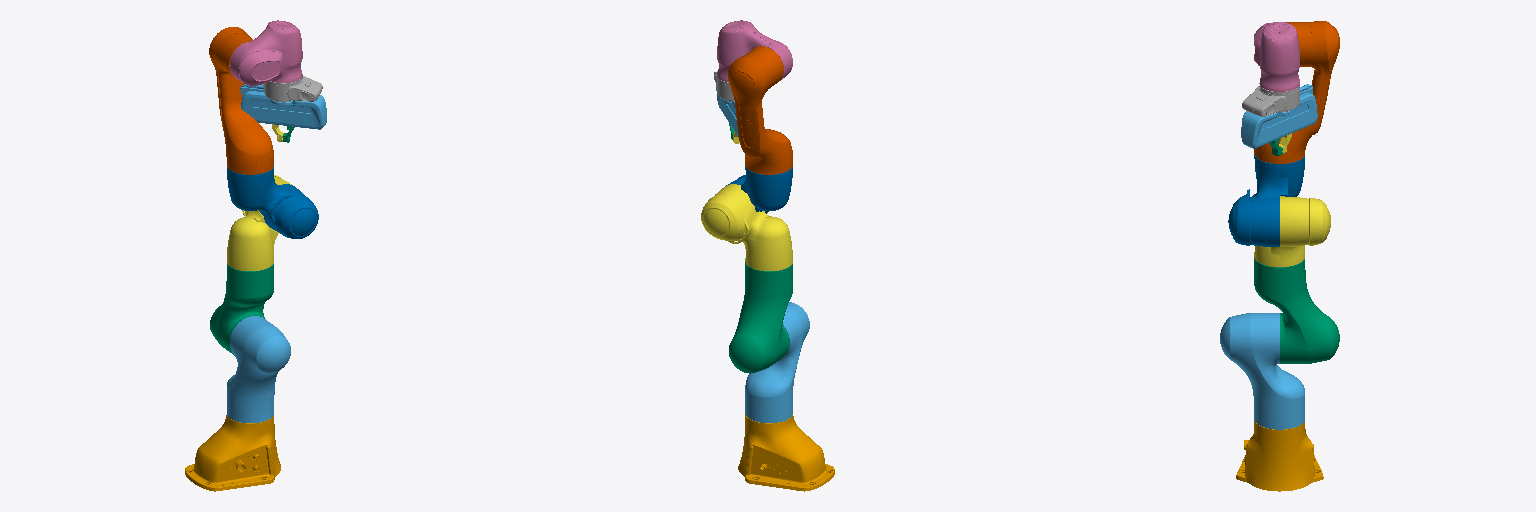
robot.urdf — panda_col:
<?xml version="1.0" ?>
<!-- =================================================================================== -->
<!-- |    This document was autogenerated by xacro from /opt/ros/kinetic/share/moveit_resources/panda_description/urdf/panda.urdf | -->
<!-- |    EDITING THIS FILE BY HAND IS NOT RECOMMENDED                                 | -->
<!-- =================================================================================== -->
<robot name="panda_col" xmlns:xacro="http://www.ros.org/wiki/xacro">
    <link name="panda_link0">
        <visual>
            <geometry>
                <mesh filename="meshes/visual/link0.stl" />
            </geometry>
        </visual>
        <collision>
            <geometry>
                <mesh filename="meshes/collision/link0.obj" />
            </geometry>
        </collision>
    </link>
    <link name="panda_link1">
        <visual>
            <geometry>
                <mesh filename="meshes/visual/link1.stl" />
            </geometry>
        </visual>
        <collision>
            <geometry>
                <mesh filename="meshes/collision/link1.obj" />
            </geometry>
        </collision>
    </link>
    <joint name="panda_joint1" type="revolute">
        <safety_controller k_position="100.0" k_velocity="40.0" soft_lower_limit="-2.8973" soft_upper_limit="2.8973" />
        <origin rpy="0 0 0" xyz="0 0 0.333" />
        <parent link="panda_link0" />
        <child link="panda_link1" />
        <axis xyz="0 0 1" />
        <limit effort="87" lower="-2.9671" upper="2.9671" velocity="2.3925" />
    </joint>
    <link name="panda_link2">
        <visual>
            <geometry>
                <mesh filename="meshes/visual/link2.stl" />
            </geometry>
        </visual>
        <collision>
            <geometry>
                <mesh filename="meshes/collision/link2.obj" />
            </geometry>
        </collision>
    </link>
    <joint name="panda_joint2" type="revolute">
        <safety_controller k_position="100.0" k_velocity="40.0" soft_lower_limit="-1.7628" soft_upper_limit="1.7628" />
        <origin rpy="-1.57079632679 0 0" xyz="0 0 0" />
        <parent link="panda_link1" />
        <child link="panda_link2" />
        <axis xyz="0 0 1" />
        <limit effort="87" lower="-1.8326" upper="1.8326" velocity="2.3925" />
    </joint>
    <link name="panda_link3">
        <visual>
            <geometry>
                <mesh filename="meshes/visual/link3.stl" />
            </geometry>
        </visual>
        <collision>
            <geometry>
                <mesh filename="meshes/collision/link3.obj" />
            </geometry>
        </collision>
    </link>
    <joint name="panda_joint3" type="revolute">
        <safety_controller k_position="100.0" k_velocity="40.0" soft_lower_limit="-2.8973" soft_upper_limit="2.8973" />
        <origin rpy="1.57079632679 0 0" xyz="0 -0.316 0" />
        <parent link="panda_link2" />
        <child link="panda_link3" />
        <axis xyz="0 0 1" />
        <limit effort="87" lower="-2.9671" upper="2.9671" velocity="2.3925" />
    </joint>
    <link name="panda_link4">
        <visual>
            <geometry>
                <mesh filename="meshes/visual/link4.stl" />
            </geometry>
        </visual>
        <collision>
            <geometry>
                <mesh filename="meshes/collision/link4.obj" />
            </geometry>
        </collision>
    </link>
    <joint name="panda_joint4" type="revolute">
        <safety_controller k_position="100.0" k_velocity="40.0" soft_lower_limit="-3.0718" soft_upper_limit="0.0175" />
        <origin rpy="1.57079632679 0 0" xyz="0.0825 0 0" />
        <parent link="panda_link3" />
        <child link="panda_link4" />
        <axis xyz="0 0 1" />
        <limit effort="87" lower="-3.1416" upper="0.0873" velocity="2.3925" />
    </joint>
    <link name="panda_link5">
        <visual>
            <geometry>
                <mesh filename="meshes/visual/link5.stl" />
            </geometry>
        </visual>
        <collision>
            <geometry>
                <mesh filename="meshes/collision/link5.obj" />
            </geometry>
        </collision>
    </link>
    <joint name="panda_joint5" type="revolute">
        <safety_controller k_position="100.0" k_velocity="40.0" soft_lower_limit="-2.8973" soft_upper_limit="2.8973" />
        <origin rpy="-1.57079632679 0 0" xyz="-0.0825 0.384 0" />
        <parent link="panda_link4" />
        <child link="panda_link5" />
        <axis xyz="0 0 1" />
        <limit effort="12" lower="-2.9671" upper="2.9671" velocity="2.8710" />
    </joint>
    <link name="panda_link6">
        <visual>
            <geometry>
                <mesh filename="meshes/visual/link6.stl" />
            </geometry>
        </visual>
        <collision>
            <geometry>
                <mesh filename="meshes/collision/link6.obj" />
            </geometry>
        </collision>
    </link>
    <joint name="panda_joint6" type="revolute">
        <safety_controller k_position="100.0" k_velocity="40.0" soft_lower_limit="-0.0175" soft_upper_limit="3.7525" />
        <origin rpy="1.57079632679 0 0" xyz="0 0 0" />
        <parent link="panda_link5" />
        <child link="panda_link6" />
        <axis xyz="0 0 1" />
        <limit effort="12" lower="-0.0175" upper="3.8223" velocity="2.8710" />
    </joint>
    <link name="panda_link7">
        <visual>
            <geometry>
                <mesh filename="meshes/visual/link7.stl" />
            </geometry>
        </visual>
        <collision>
            <geometry>
                <mesh filename="meshes/collision/link7.obj" />
            </geometry>
        </collision>
    </link>
    <joint name="panda_joint7" type="revolute">
        <safety_controller k_position="100.0" k_velocity="40.0" soft_lower_limit="-2.8973" soft_upper_limit="2.8973" />
        <origin rpy="1.57079632679 0 0" xyz="0.088 0 0" />
        <parent link="panda_link6" />
        <child link="panda_link7" />
        <axis xyz="0 0 1" />
        <limit effort="12" lower="-2.9671" upper="2.9671" velocity="2.8710" />
    </joint>
    <link name="panda_link8" />
    <joint name="panda_joint8" type="fixed">
        <origin rpy="0 0 0" xyz="0 0 0.107" />
        <parent link="panda_link7" />
        <child link="panda_link8" />
        <axis xyz="0 0 0" />
    </joint>
    <joint name="panda_hand_joint" type="fixed">
        <parent link="panda_link8" />
        <child link="panda_hand" />
        <origin rpy="0 0  -0.785398163397" xyz="0 0 0" />
    </joint>
    <link name="panda_hand">
        <visual>
            <geometry>
                <mesh filename="meshes/visual/hand.stl" />
            </geometry>
        </visual>
        <collision>
            <geometry>
                <mesh filename="meshes/collision/hand.obj" />
            </geometry>
        </collision>
    </link>
    <link name="panda_leftfinger">
        <visual>
            <geometry>
                <mesh filename="meshes/visual/finger.stl" />
            </geometry>
        </visual>
        <collision>
            <geometry>
                <mesh filename="meshes/collision/finger.obj" />
            </geometry>
        </collision>
    </link>
    <link name="panda_rightfinger">
        <visual>
            <origin rpy="0 0 3.14159265359" xyz="0 0 0" />
            <geometry>
                <mesh filename="meshes/visual/finger.stl" />
            </geometry>
        </visual>
        <collision>
            <origin rpy="0 0 3.14159265359" xyz="0 0 0" />
            <geometry>
                <mesh filename="meshes/collision/finger.obj" />
            </geometry>
        </collision>
    </link>
    <link name="eef">
    </link>
    <joint name="panda_finger_joint1" type="prismatic">
        <parent link="panda_hand" />
        <child link="panda_leftfinger" />
        <origin rpy="0 0 0" xyz="0 0 0.0584" />
        <axis xyz="0 1 0" />
        <limit effort="20" lower="0.0" upper="0.04" velocity="0.2" />
    </joint>
    <joint name="panda_finger_joint2" type="prismatic">
        <parent link="panda_hand" />
        <child link="panda_rightfinger" />
        <origin rpy="0 0 0" xyz="0 0 0.0584" />
        <axis xyz="0 -1 0" />
        <limit effort="20" lower="0.0" upper="0.04" velocity="0.85" />
        <mimic joint="panda_finger_joint1" />
    </joint>
    <joint name="eef_joint" type="fixed">
        <parent link="panda_hand" />
        <child link="eef" />
        <origin rpy="0 0 0" xyz="0 0 0.0784" />
        <axis xyz="0 0 0" />
    </joint>
<link name="world"/>
  <joint name="world_joint" type="fixed">
    <parent link="world"/>
    <child link="panda_link0"/>
    <origin rpy="0.0 0.0 0.0" xyz="2.0 2.0 0.5"/>
  </joint>
</robot>

--- Render facts (derived) ---
3 views of the same robot in one strip: view 1: azimuth 30°, elevation 25°; view 2: azimuth 150°, elevation 25°; view 3: azimuth 270°, elevation 25° (orthographic).
Model panda_col with 14 links and 13 joints (7 revolute, 2 prismatic, 4 fixed), rooted at world, posed all joints at 0.
Links seen in each view (by area): view 1: panda_link0, panda_link1, panda_link5, panda_link4, panda_link6, panda_link2, panda_link3, panda_hand, panda_link7; view 2: panda_link0, panda_link5, panda_link2, panda_link3, panda_link1, panda_link6, panda_link4; view 3: panda_link1, panda_link2, panda_link0, panda_link4, panda_link5, panda_link3, panda_link6, panda_hand, panda_link7.
Link boxes in pixels (box(x1,y1,x2,y2)): panda_link0: box(185, 415, 280, 491); panda_link1: box(227, 316, 290, 422); panda_link5: box(209, 27, 273, 174); panda_link4: box(227, 167, 318, 238); panda_link6: box(230, 20, 302, 85); panda_link2: box(210, 264, 273, 355); panda_link3: box(227, 175, 291, 270); panda_hand: box(240, 84, 326, 129); panda_link7: box(262, 76, 322, 102); panda_link0: box(738, 414, 834, 491); panda_link5: box(728, 46, 792, 174); panda_link2: box(729, 262, 792, 373); panda_link3: box(701, 184, 792, 270); panda_link1: box(745, 302, 809, 422); panda_link6: box(717, 20, 792, 81); panda_link4: box(726, 165, 792, 213); panda_link1: box(1220, 313, 1304, 429); panda_link2: box(1254, 257, 1339, 363); panda_link0: box(1236, 420, 1323, 491); panda_link4: box(1228, 154, 1304, 246); panda_link5: box(1254, 21, 1339, 163); panda_link3: box(1254, 196, 1330, 266); panda_link6: box(1254, 22, 1299, 91); panda_hand: box(1241, 84, 1317, 148); panda_link7: box(1242, 83, 1299, 116).
Bounding box of the posed robot: 0.3253 × 0.2593 × 1.11 m (x, y, z).
Meshes: 10 distinct files referenced, 11 mesh visuals loaded (10 binary STL).